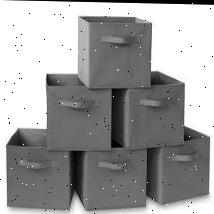cube: (76, 14, 153, 87), (7, 130, 73, 211), (45, 73, 113, 151), (121, 74, 185, 147), (79, 148, 149, 208), (154, 133, 213, 202)
